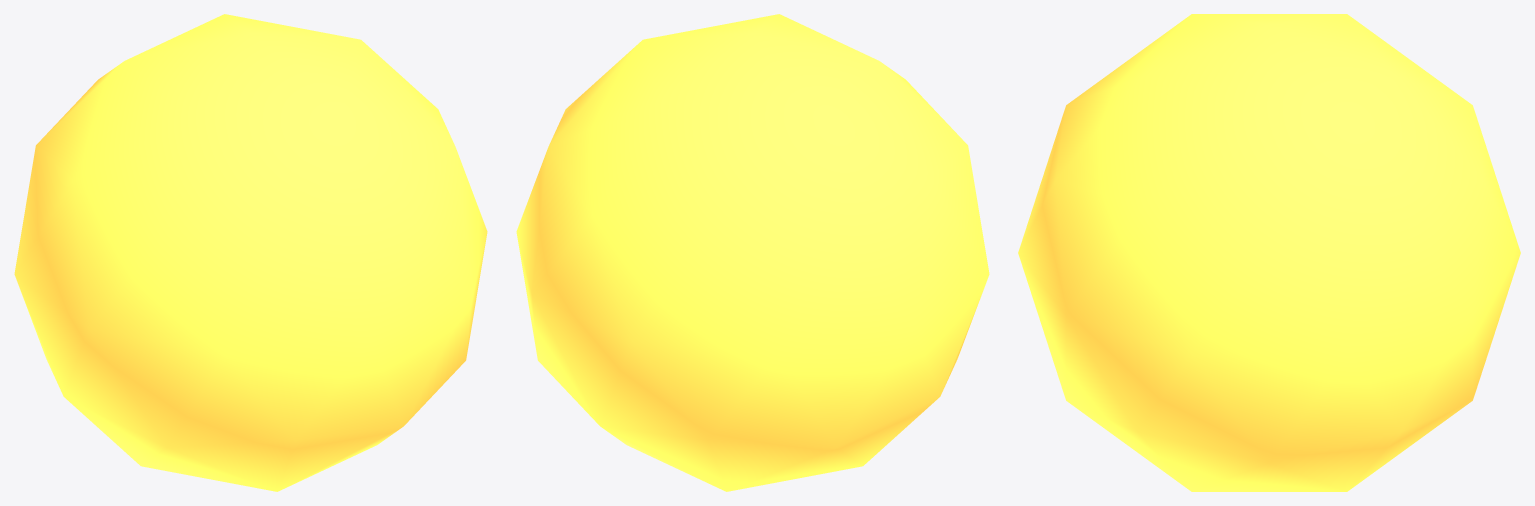
The model's file is fireball.gltf.
The picture shows the model from 3 angles, left to right: view 1: azimuth 30°, elevation 25°; view 2: azimuth 150°, elevation 25°; view 3: azimuth 270°, elevation 25°; orthographic projection. The views are drawn at different scales.
Parts seen in each view (by area): view 1: fireball; view 2: fireball; view 3: fireball.
Part boxes in pixels (bbox=[...]): fireball: bbox=[14, 14, 487, 491]; fireball: bbox=[516, 14, 989, 491]; fireball: bbox=[1018, 14, 1520, 491].
Size of the model in its own units: 0.3424 by 0.36 by 0.36.
